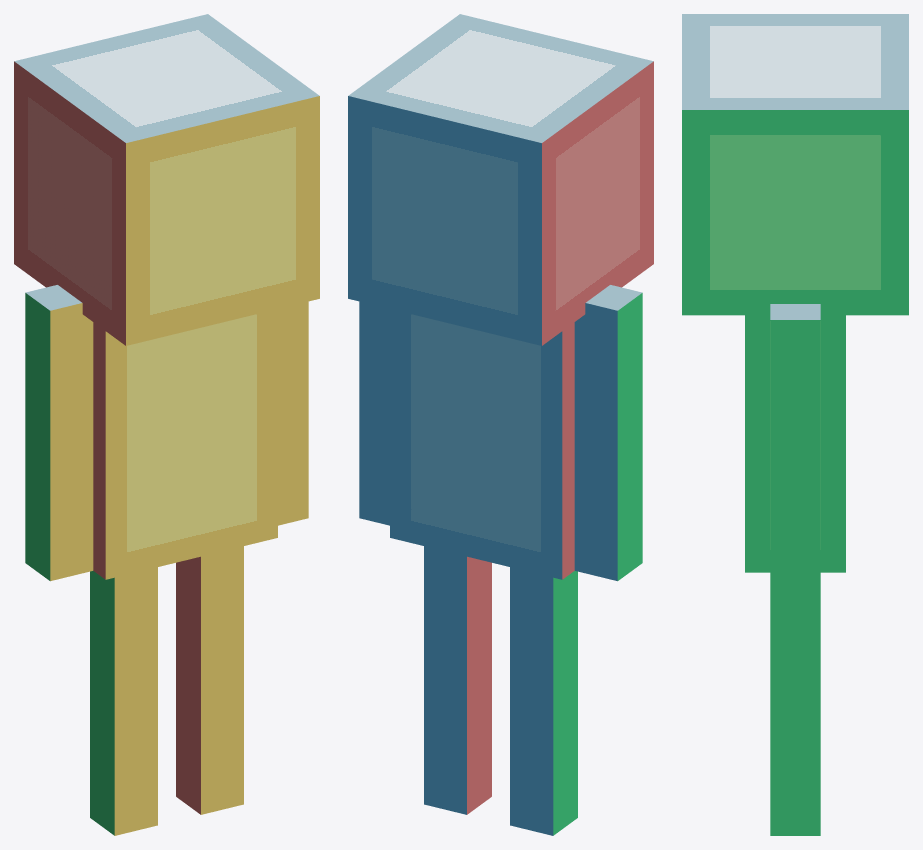
Rendered from skeleton.gltf.
3 renders of one model, left to right at view 1: azimuth 30°, elevation 25°; view 2: azimuth 150°, elevation 25°; view 3: azimuth 270°, elevation 25°, orthographic.
Parts seen in each view (by area): view 1: hat, Body, LeftArm, LeftLeg, RightLeg, RightArm; view 2: hat, Body, LeftArm, LeftLeg, RightLeg, RightArm; view 3: hat, RightArm, Body, RightLeg.
Boxes of the visible parts, box(x1,y1,x2,y2) form: hat: box(14, 14, 319, 345); Body: box(93, 309, 277, 579); LeftArm: box(25, 285, 93, 581); LeftLeg: box(90, 567, 157, 835); RightLeg: box(176, 546, 243, 814); RightArm: box(278, 301, 308, 525); hat: box(348, 14, 653, 345); Body: box(390, 309, 574, 579); LeftArm: box(574, 285, 642, 581); LeftLeg: box(510, 567, 577, 835); RightLeg: box(424, 546, 491, 814); RightArm: box(359, 301, 389, 525); hat: box(682, 14, 908, 315); RightArm: box(770, 304, 820, 593); Body: box(745, 315, 845, 572); RightLeg: box(770, 594, 820, 835).
Bounding box in the file's own units: 0.75 × 2.03 × 0.5625.
1 material, 1 textured.
